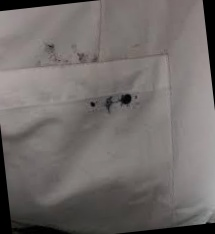ink: (84, 92, 139, 115), (44, 40, 92, 66)
